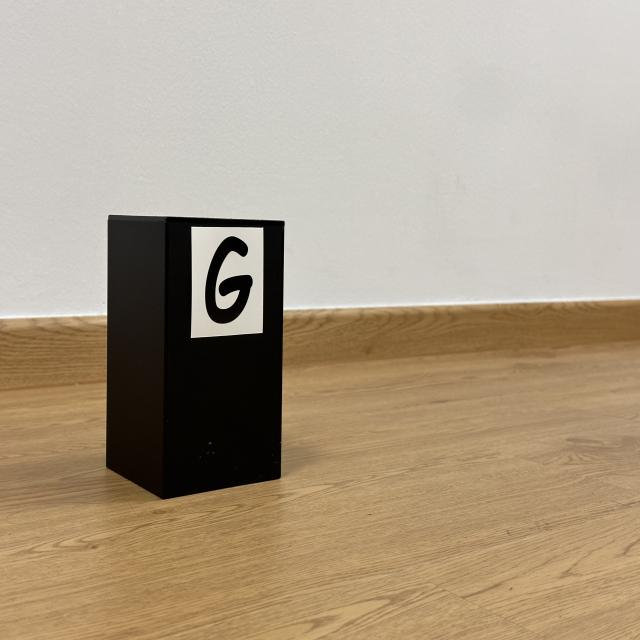G: (205, 237, 252, 323)
